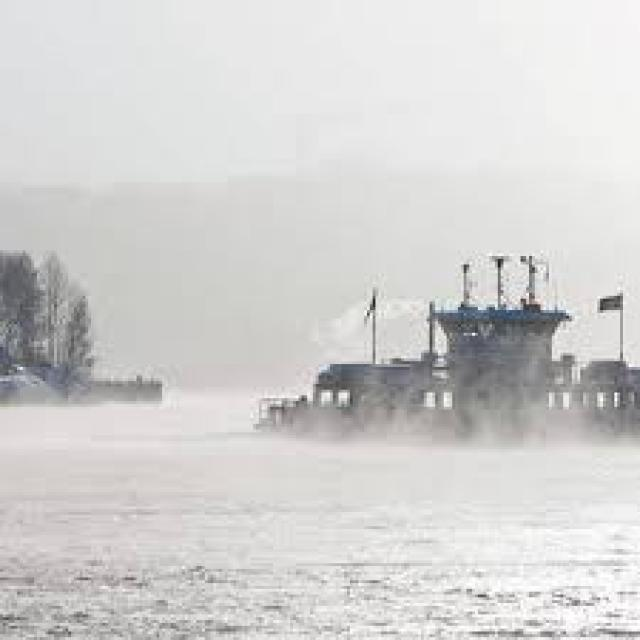fishing boat: (248, 259, 640, 453)
